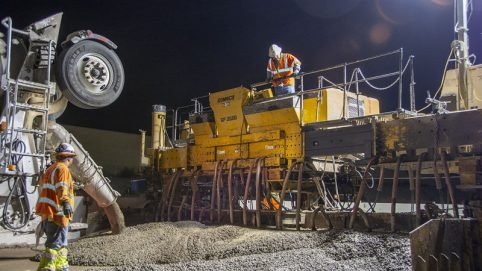white: (267, 44, 282, 60)
yellow: (53, 143, 76, 166)
